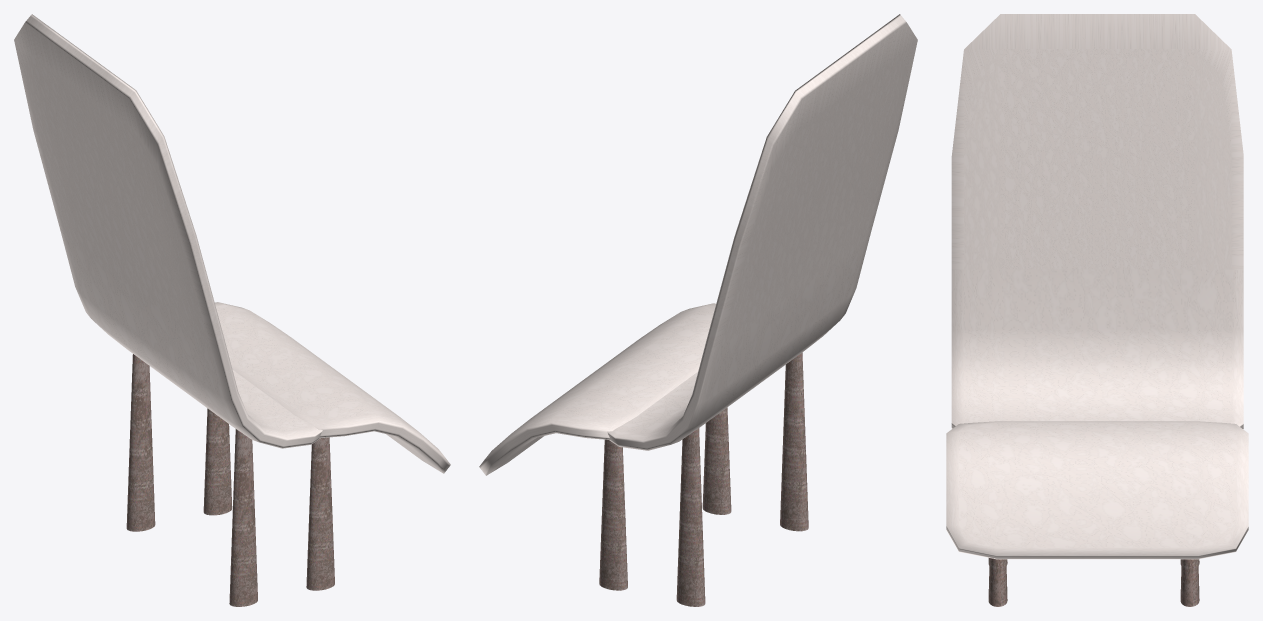
Rendered from chair_old.fbx.
3 renders of one model, left to right at view 1: azimuth 30°, elevation 25°; view 2: azimuth 150°, elevation 25°; view 3: azimuth 270°, elevation 25°, orthographic. The views are drawn at different scales.
Parts seen in each view (by area): view 1: polySurface3, polySurface4, polySurface6, polySurface8, polySurface5, polySurface7; view 2: polySurface3, polySurface4, polySurface8, polySurface6, polySurface7, polySurface5; view 3: polySurface3, polySurface4, polySurface5, polySurface7.
Boxes of the visible parts, x1,y1,x2,y2 form: polySurface3: (14,14,322,448); polySurface4: (215,302,450,473); polySurface6: (229,429,257,606); polySurface8: (126,354,155,531); polySurface5: (306,437,334,590); polySurface7: (203,408,232,515); polySurface3: (607,14,917,450); polySurface4: (479,303,715,475); polySurface8: (676,428,705,606); polySurface6: (780,352,808,531); polySurface7: (599,439,627,590); polySurface5: (702,407,731,514); polySurface3: (951,14,1243,428); polySurface4: (946,421,1248,559); polySurface5: (988,558,1007,606); polySurface7: (1180,559,1199,606).
Bounding box in the file's own units: 1.18 × 2 × 1.09.
2 materials, 2 textured.
